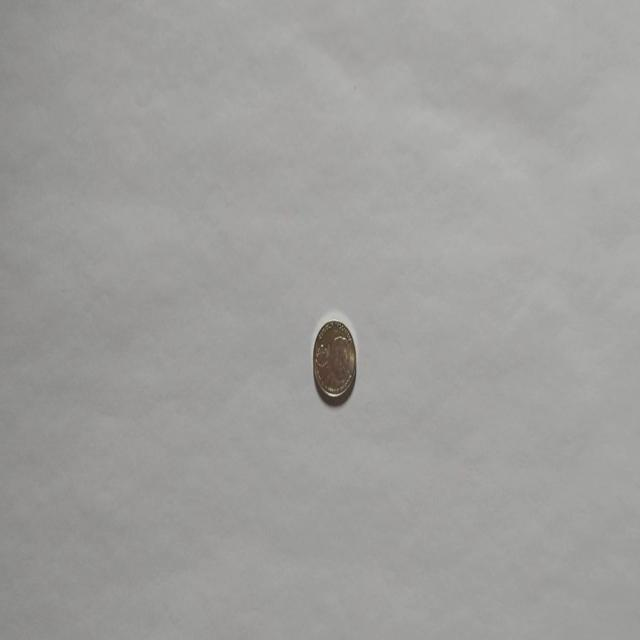seratus rupiah: (312, 318, 356, 404)
